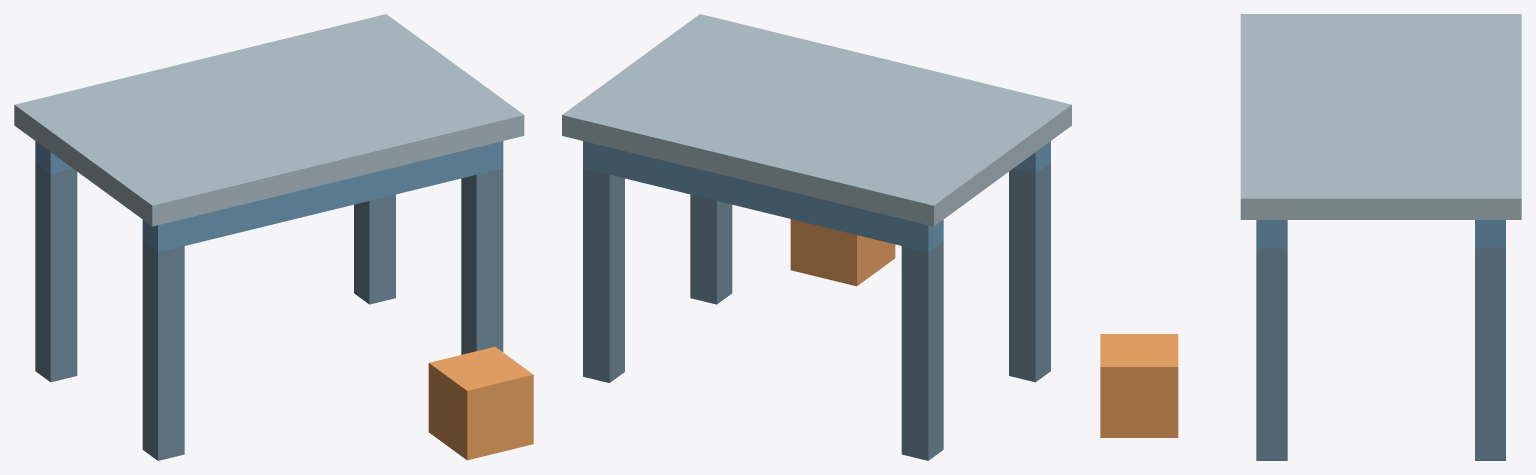
Rendered from estrutura.glb.
The picture shows the model from 3 angles, left to right: view 1: azimuth 30°, elevation 25°; view 2: azimuth 150°, elevation 25°; view 3: azimuth 270°, elevation 25°; orthographic projection.
Parts seen in each view (by area): view 1: Laje 01, Viga 01, Cubo de 100 mm, Pilar 01, Pilar 03, Pilar 02, Pilar 04, Viga 02; view 2: Laje 01, Viga 02, Pilar 03, Pilar 01, Pilar 04, Cubo de 100 mm, Pilar 02, Viga 01; view 3: Laje 01, Cubo de 100 mm, Pilar 02, Pilar 04, Viga 01, Viga 02.
Boxes of the visible parts, left/top/right/bottom form: Laje 01: left=14, top=14, right=524, bottom=226; Viga 01: left=142, top=141, right=503, bottom=252; Cubo de 100 mm: left=428, top=347, right=533, bottom=460; Pilar 01: left=142, top=241, right=184, bottom=460; Pilar 03: left=35, top=163, right=77, bottom=382; Pilar 02: left=461, top=168, right=503, bottom=354; Pilar 04: left=354, top=194, right=395, bottom=304; Viga 02: left=35, top=141, right=72, bottom=173; Laje 01: left=562, top=14, right=1071, bottom=226; Viga 02: left=583, top=141, right=943, bottom=252; Pilar 03: left=901, top=241, right=943, bottom=460; Pilar 01: left=1009, top=163, right=1050, bottom=382; Pilar 04: left=583, top=168, right=624, bottom=382; Cubo de 100 mm: left=790, top=219, right=895, bottom=286; Pilar 02: left=690, top=194, right=732, bottom=304; Viga 01: left=1013, top=141, right=1050, bottom=173; Laje 01: left=1240, top=14, right=1521, bottom=219; Cubo de 100 mm: left=1100, top=334, right=1178, bottom=437; Pilar 02: left=1256, top=248, right=1287, bottom=460; Pilar 04: left=1475, top=248, right=1505, bottom=460; Viga 01: left=1256, top=220, right=1287, bottom=248; Viga 02: left=1475, top=220, right=1505, bottom=248.
Size of the model in its own units: 0.56 by 0.38 by 0.54.
